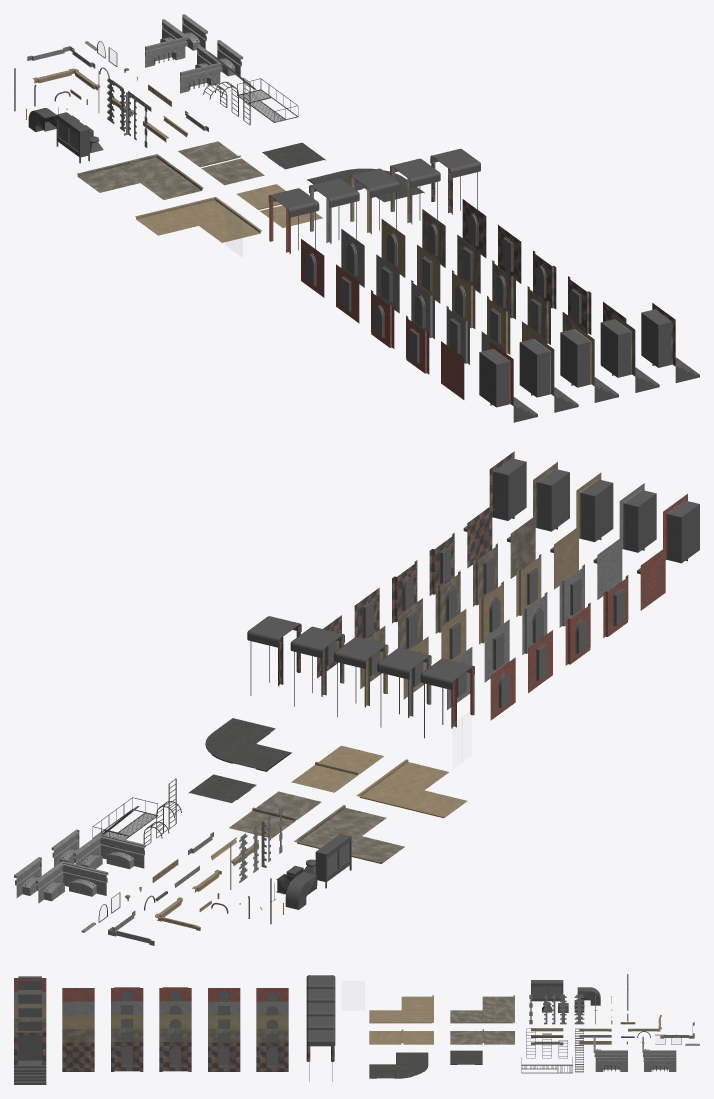
File: modular_build.fbx
3 views of the same model, one above another, from view 1: azimuth 30°, elevation 25°; view 2: azimuth 150°, elevation 25°; view 3: azimuth 270°, elevation 25° (orthographic). The views are drawn at different scales.
Parts seen in each view (by area): view 1: Roof_3, Roof_1, Entrance_2, Entrance_4, Entrance_1, Entrance_3, Entrance_5, Porch_1, Porch_4, Porch_2, Porch_3, Porch_5 (+30 smaller); view 2: Roof_1, Roof_3, Sidewalk_1, Entrance_2, Entrance_5, Entrance_3, Entrance_1, Entrance_4, Plinth_3, Plinth_1, Porch_1, Porch_2 (+32 smaller); view 3: Entrance_5, Roof_1, Roof_3, Sidewalk_1, Wall_Clean_5, Wall_Recessed_Round_Window_5, Wall_Round_Window_5, Wall_Recessed_Rectangular_Window_5, Wall_Rectangular_Window_5, Porch_5, Transformer, Sidewalk_2 (+40 smaller).
Part boxes in pixels (box(x1,y1,x2,y2)): Roof_3: box(77, 154, 203, 199); Roof_1: box(135, 197, 261, 242); Entrance_2: box(519, 332, 578, 412); Entrance_4: box(600, 313, 659, 392); Entrance_1: box(479, 342, 537, 422); Entrance_3: box(560, 322, 618, 402); Entrance_5: box(641, 303, 699, 382); Porch_1: box(268, 188, 319, 253); Porch_4: box(390, 158, 440, 224); Porch_2: box(309, 178, 359, 244); Porch_3: box(349, 168, 400, 234); Porch_5: box(430, 148, 480, 214); Roof_1: box(356, 759, 467, 818); Roof_3: box(294, 805, 404, 863); Sidewalk_1: box(205, 718, 291, 771); Entrance_2: box(593, 483, 656, 563); Entrance_5: box(463, 451, 526, 531); Entrance_3: box(550, 472, 613, 552); Entrance_1: box(637, 494, 699, 574); Entrance_4: box(507, 462, 569, 542); Plinth_3: box(35, 861, 108, 903); Plinth_1: box(73, 833, 145, 869); Porch_1: box(420, 658, 474, 738); Porch_2: box(377, 648, 431, 727); Entrance_5: box(14, 1031, 46, 1084); Roof_1: box(369, 995, 433, 1023); Roof_3: box(450, 995, 514, 1023); Sidewalk_1: box(369, 1052, 428, 1078); Wall_Clean_5: box(62, 1042, 94, 1071); Wall_Recessed_Round_Window_5: box(159, 1042, 191, 1071); Wall_Round_Window_5: box(256, 1042, 288, 1071); Wall_Recessed_Rectangular_Window_5: box(111, 1042, 143, 1071); Wall_Rectangular_Window_5: box(208, 1042, 240, 1071); Porch_5: box(306, 1029, 335, 1081); Transformer: box(531, 980, 563, 1001); Sidewalk_2: box(450, 1050, 482, 1064).
Size of the model in its own units: 1290 by 300 by 4246.
Materials: 3 (1 with a texture image).
